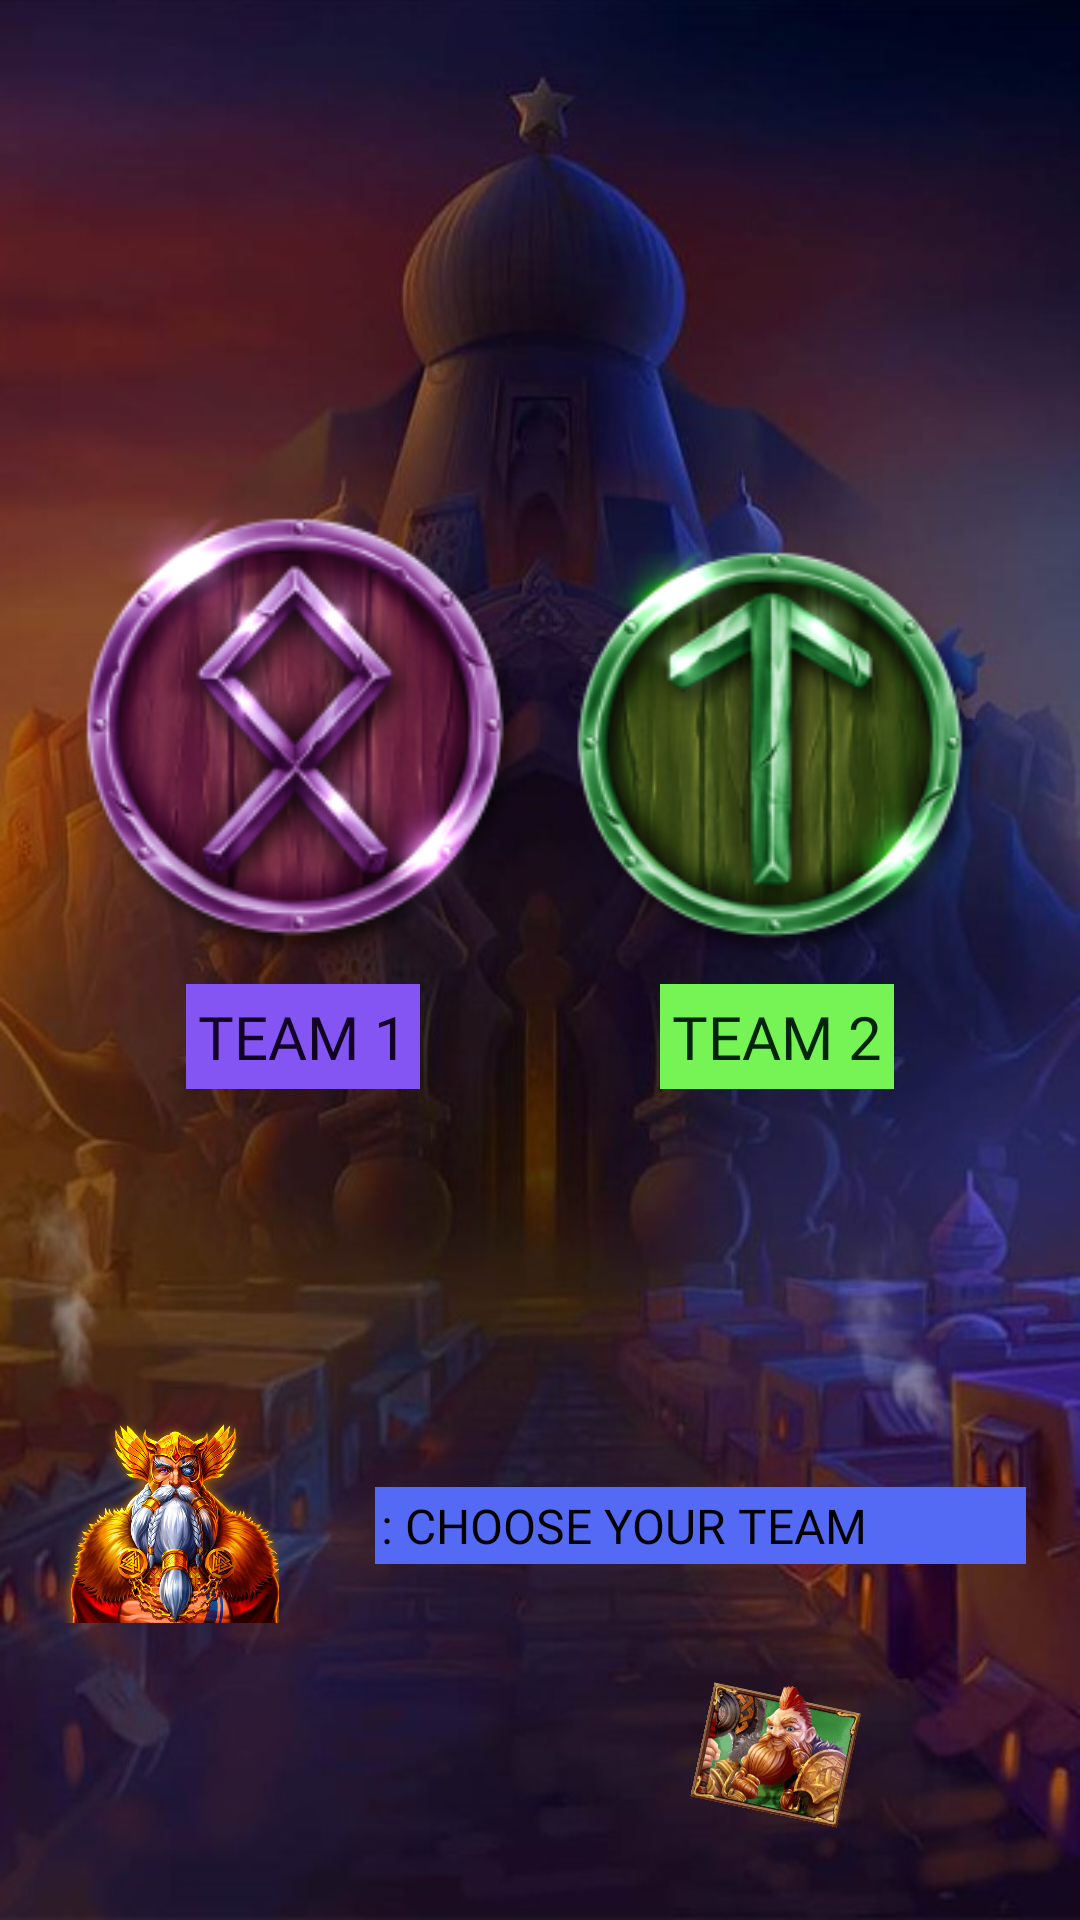

Icon click points for this 1080×1920 phone screenshot, format point (x, y):
ussssser: point (166, 1519)
